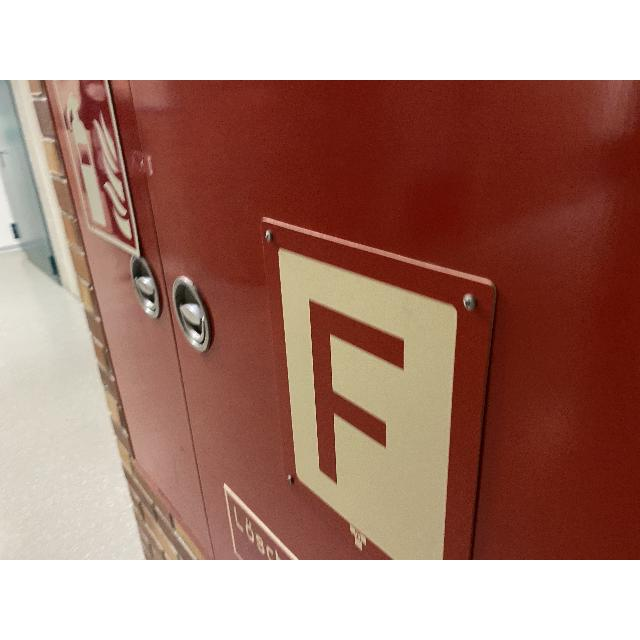fire extinguisher: (260, 216, 496, 560)
